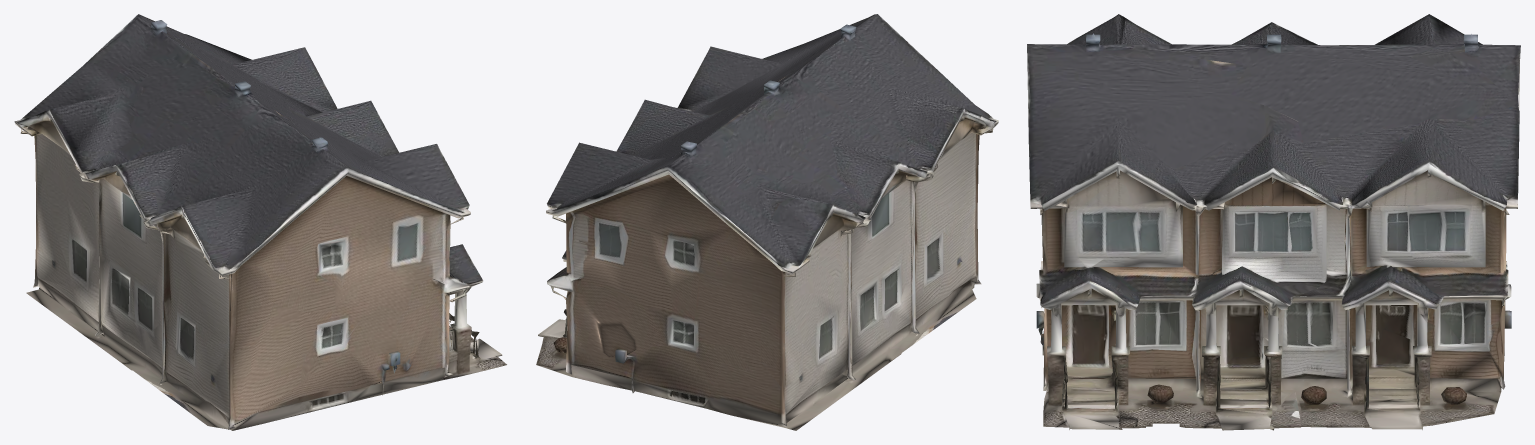
File: lod_house_townrow.glb
3 renders of one model, left to right at view 1: azimuth 30°, elevation 25°; view 2: azimuth 150°, elevation 25°; view 3: azimuth 270°, elevation 25°, orthographic. The views are drawn at different scales.
Parts seen in each view (by area): view 1: tripo_node_024e7d2f-21ab-4110-84b2-af81fb6041f2; view 2: tripo_node_024e7d2f-21ab-4110-84b2-af81fb6041f2; view 3: tripo_node_024e7d2f-21ab-4110-84b2-af81fb6041f2.
Part boxes in pixels (x1=…): tripo_node_024e7d2f-21ab-4110-84b2-af81fb6041f2: x1=14, y1=14, x2=506, y2=430; tripo_node_024e7d2f-21ab-4110-84b2-af81fb6041f2: x1=536, y1=14, x2=998, y2=430; tripo_node_024e7d2f-21ab-4110-84b2-af81fb6041f2: x1=1027, y1=14, x2=1520, y2=430.
Bounding box in the file's own units: 0.8357 × 0.6674 × 0.9986.
1 material, 1 textured.
